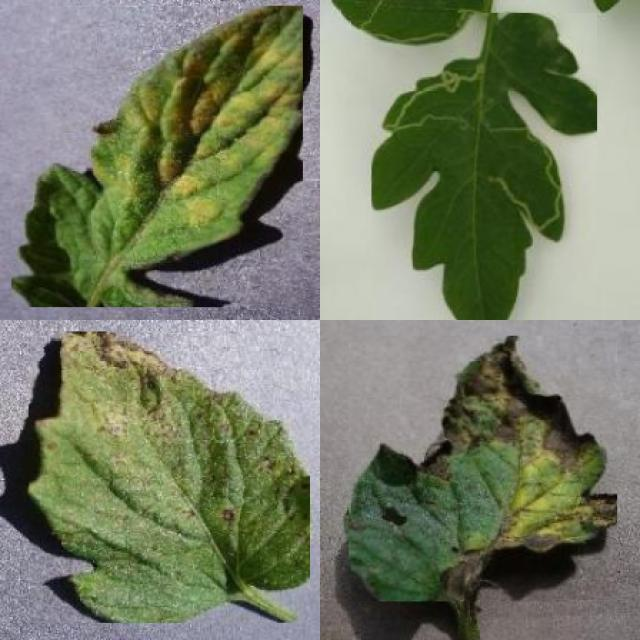Early Blight: (349, 337, 617, 602)
Leaf Miner: (372, 13, 597, 320)
Leaf Mold: (12, 6, 302, 307)
Septoria: (29, 331, 310, 623)
